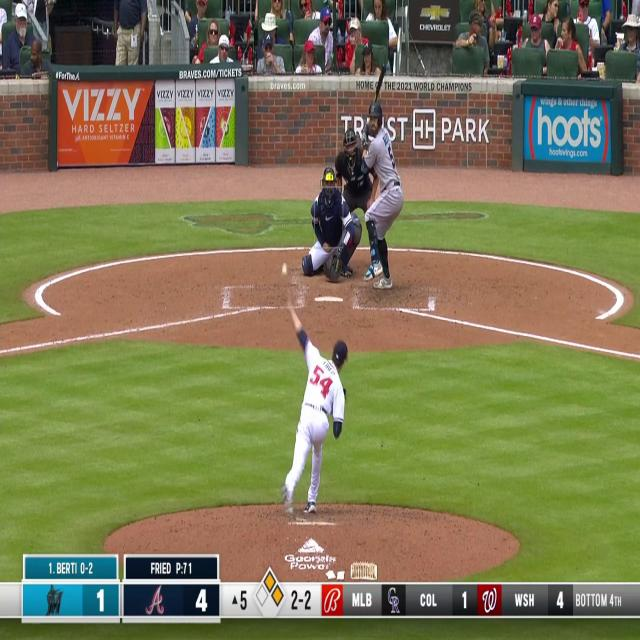baseball: (282, 263, 287, 276)
